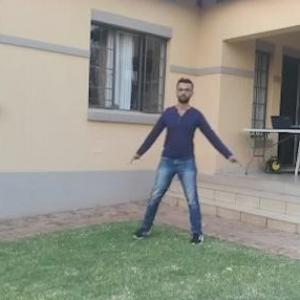land: (138, 92, 230, 237)
